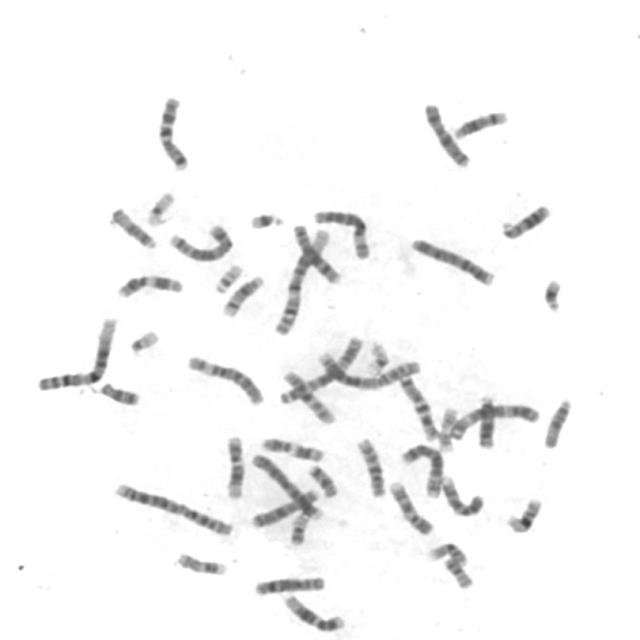A1: (269, 222, 333, 337), (31, 311, 119, 393)
A2: (107, 477, 235, 538), (314, 346, 422, 392)
A3: (274, 329, 366, 406), (443, 397, 543, 441)
B4: (247, 447, 326, 522), (405, 232, 497, 288)
B5: (163, 218, 236, 263), (396, 438, 446, 500)
C10: (277, 363, 338, 426), (351, 432, 388, 499)
C11: (112, 268, 185, 300), (256, 431, 327, 462)
C12: (277, 588, 346, 633), (219, 430, 248, 500)
C6: (182, 348, 267, 406), (308, 205, 372, 260)
C7: (393, 370, 441, 442), (152, 89, 191, 172)
C8: (288, 218, 344, 286), (249, 571, 328, 598)
C9: (384, 475, 436, 537), (436, 470, 486, 518)
D13: (495, 198, 553, 241), (473, 389, 498, 450)
D14: (217, 269, 266, 318), (448, 104, 510, 141)
D15: (105, 202, 159, 250), (538, 393, 574, 450)
E16: (501, 492, 545, 534), (427, 539, 472, 566)
E17: (172, 546, 228, 577), (432, 401, 460, 453)
E18: (303, 458, 340, 498), (94, 377, 142, 407)
F19: (141, 185, 177, 228), (361, 336, 392, 376)
F20: (284, 507, 313, 547), (445, 557, 474, 591)
G21: (537, 272, 565, 314), (244, 206, 286, 230)
G22: (209, 258, 244, 294), (124, 324, 162, 355)
X: (419, 96, 473, 168), (245, 484, 321, 529)
